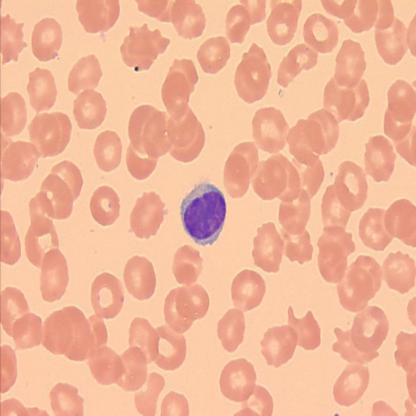Lymphocyte: (180, 181, 226, 247)
